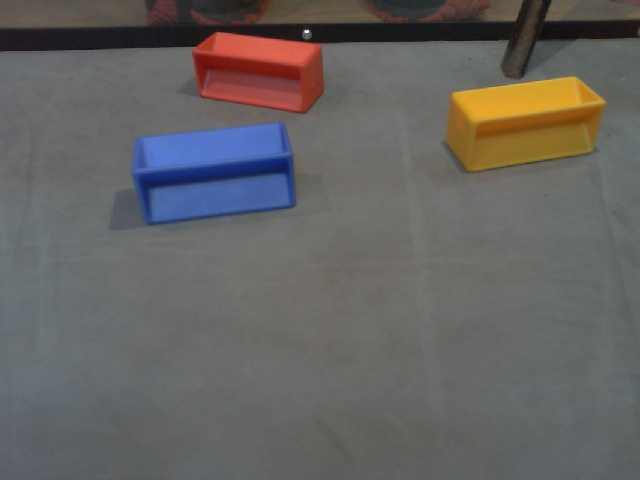BlueSample: (132, 121, 300, 228)
RedSample: (189, 27, 326, 115)
YellowSample: (443, 75, 608, 174)
